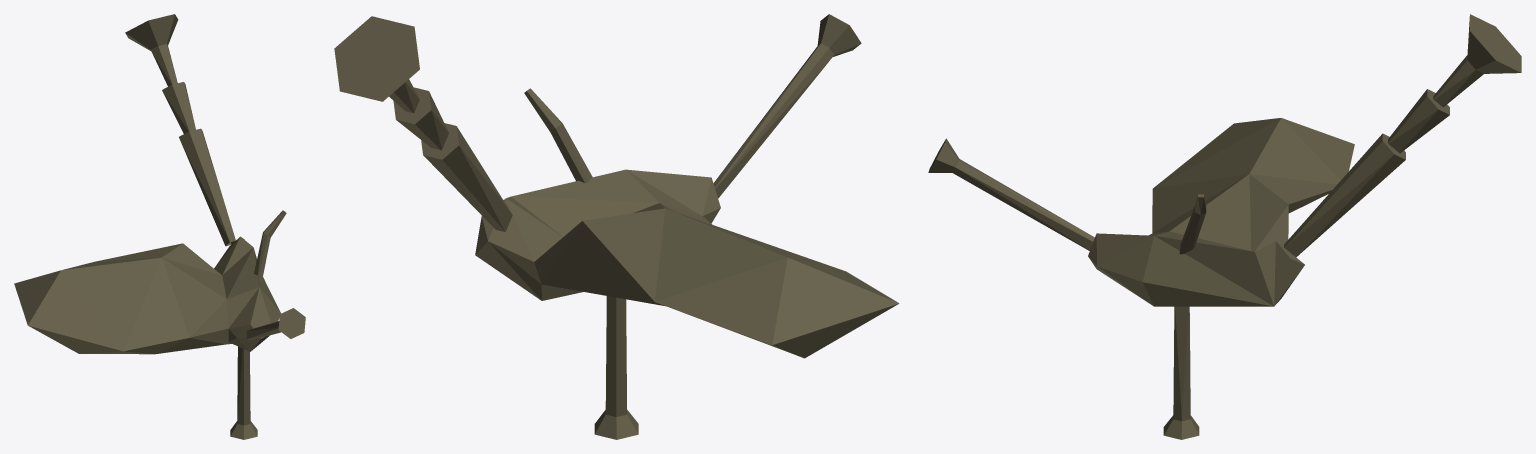
Rendered from ITMI_BAGPIPE_YELLOW_01.OBJ.
3 renders of one model, left to right at view 1: azimuth 30°, elevation 25°; view 2: azimuth 150°, elevation 25°; view 3: azimuth 270°, elevation 25°, orthographic. The views are drawn at different scales.
Parts seen in each view (by area): view 1: ITMI_BAGPIPE_YELLOW_01; view 2: ITMI_BAGPIPE_YELLOW_01; view 3: ITMI_BAGPIPE_YELLOW_01.
Part boxes in pixels (left/top/right/bottom): ITMI_BAGPIPE_YELLOW_01: left=14, top=14, right=305, bottom=439; ITMI_BAGPIPE_YELLOW_01: left=334, top=14, right=899, bottom=439; ITMI_BAGPIPE_YELLOW_01: left=928, top=14, right=1521, bottom=439.
Size of the model in its own units: 0.7245 by 0.9041 by 1.14.
